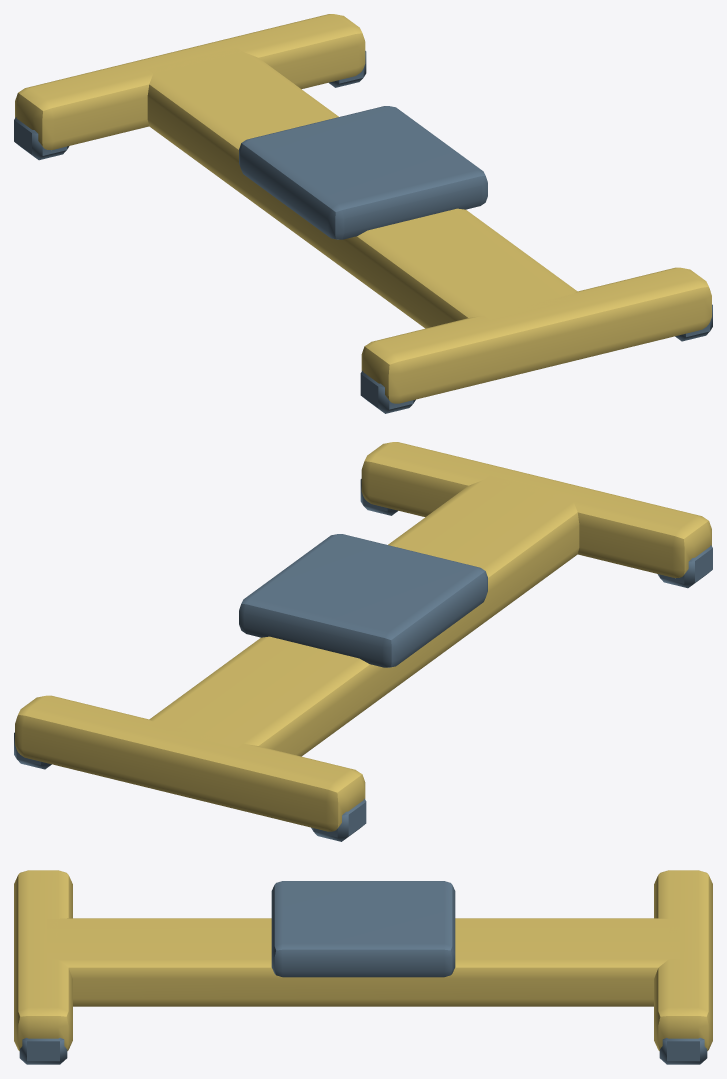
The model's file is spreader.glb.
3 renders of one model, top to bottom at view 1: azimuth 30°, elevation 25°; view 2: azimuth 150°, elevation 25°; view 3: azimuth 270°, elevation 25°, orthographic. The views are drawn at different scales.
Visible parts, largest first — view 1: spreader; view 2: spreader; view 3: spreader.
Part boxes in pixels (box(x1,y1,x2,y2)): spreader: box(14, 14, 712, 413); spreader: box(14, 442, 712, 841); spreader: box(14, 870, 712, 1064).
Bounding box in the file's own units: 0.97 × 0.24 × 1.9.
